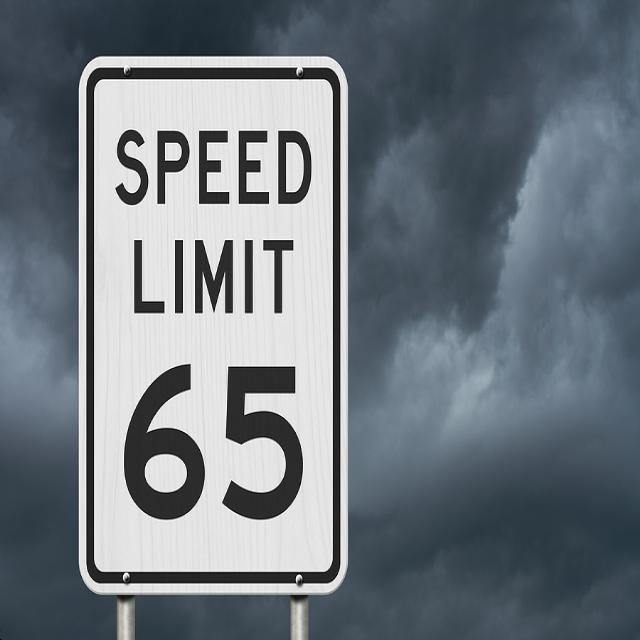Speed Limit Signs: (77, 54, 350, 596)
